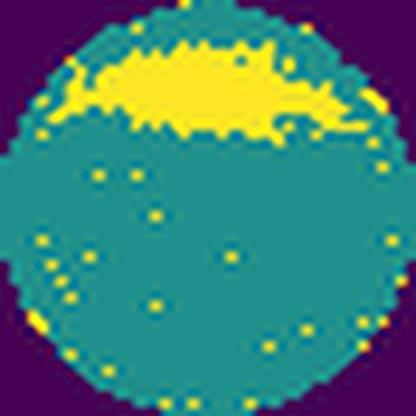Edge-Loc: (47, 40, 372, 144)
